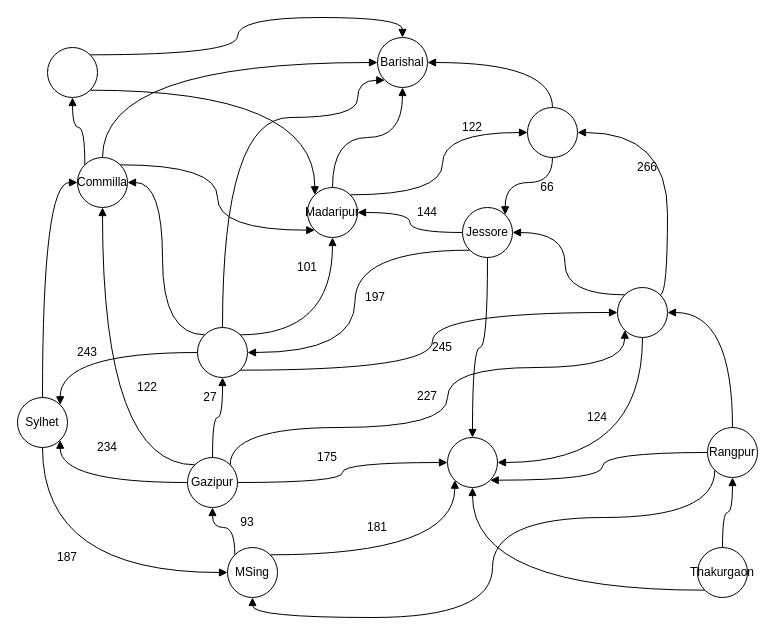
The diagram is 775 pixels wide and 635 high, and some of its shapes have lost their labels. The centre of each missing label's shape, as x and y in pixels:
Bogura: [472,462]
CHT: [72,72]
Dhaka: [222,352]
Khulna: [552,132]
Rajshahi: [642,312]
